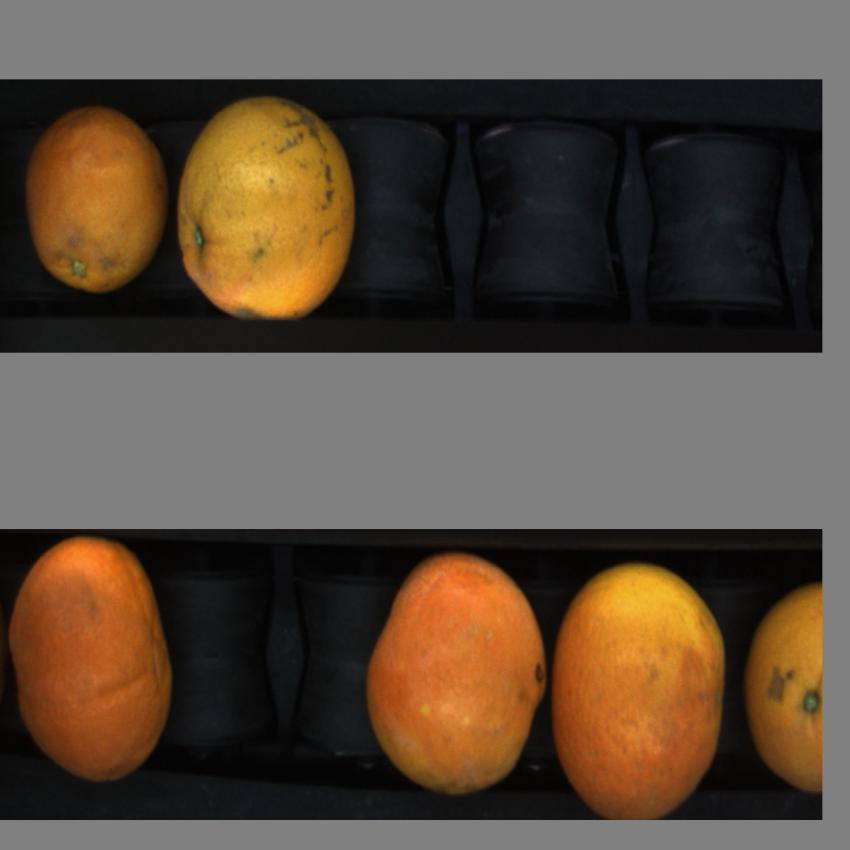Buen estado: (358, 550, 552, 800), (7, 537, 183, 786), (177, 92, 360, 324), (22, 98, 170, 305), (741, 567, 823, 796)
Mal estado: (552, 563, 730, 821)
